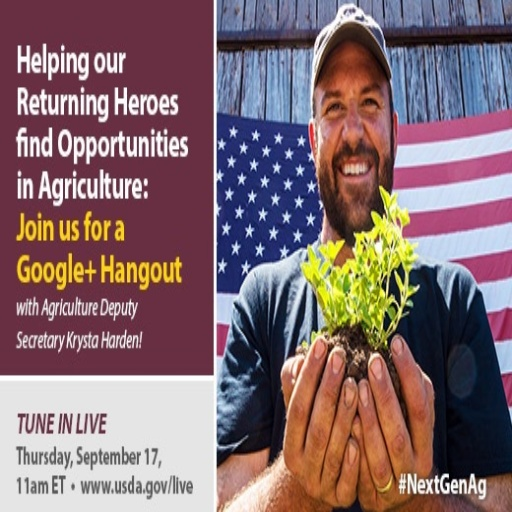hand: (279, 326, 380, 502), (347, 331, 437, 508)
